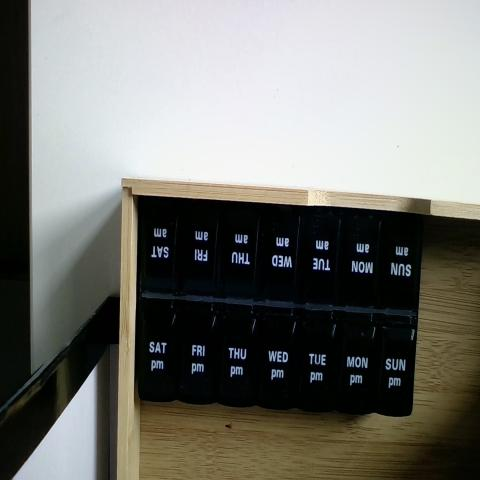FRI-am: (186, 199, 219, 295)
FRI-pm: (181, 305, 216, 400)
MON-am: (343, 213, 378, 305)
MON-pm: (338, 314, 377, 414)
SAT-am: (141, 203, 183, 292)
SAT-pm: (139, 303, 177, 396)
SUN-am: (386, 222, 420, 305)
SUN-pm: (376, 328, 412, 412)
THU-am: (222, 208, 262, 298)
THU-pm: (217, 310, 257, 404)
TUE-am: (302, 214, 339, 298)
TUE-pm: (300, 310, 336, 412)
WED-am: (264, 206, 299, 295)
WED-pm: (260, 306, 296, 404)
